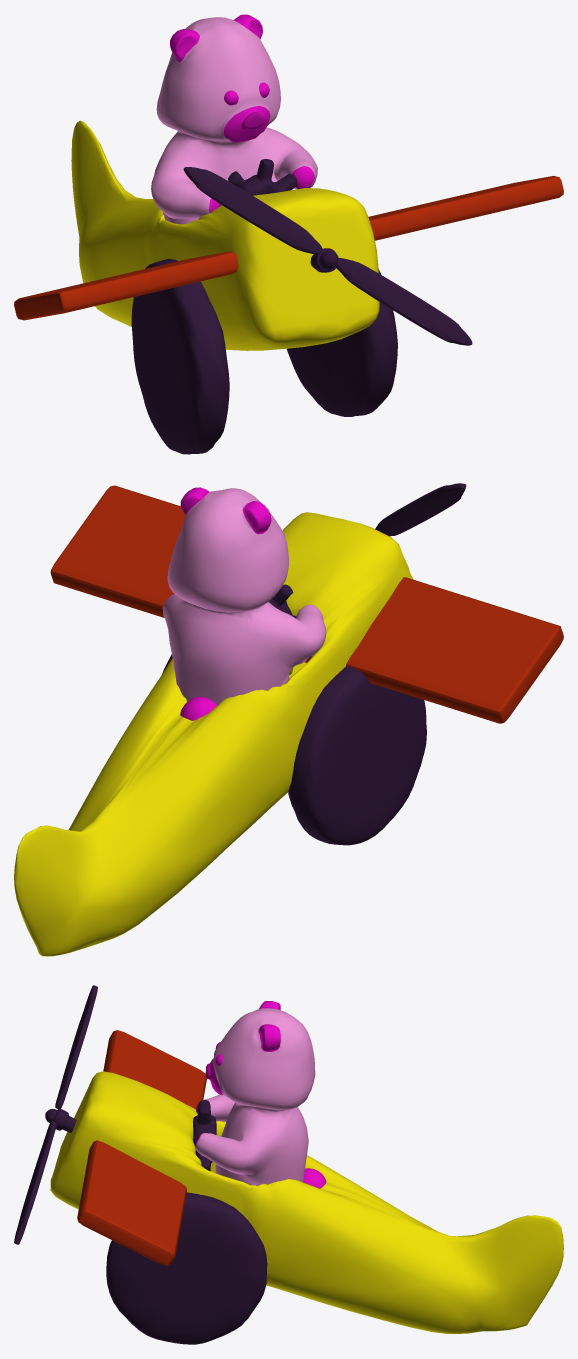
File: BearToyPlane.fbx
3 views of the same model, one above another, from view 1: azimuth 30°, elevation 25°; view 2: azimuth 150°, elevation 25°; view 3: azimuth 270°, elevation 25° (orthographic). The views are drawn at different scales.
Visible parts, largest first — view 1: polySurface50; view 2: polySurface50; view 3: polySurface50.
Part boxes in pixels (x1=…): polySurface50: x1=14, y1=14, x2=563, y2=454; polySurface50: x1=14, y1=483, x2=563, y2=956; polySurface50: x1=14, y1=985, x2=563, y2=1344.
Size of the model in its own units: 4.56 by 3.32 by 5.4.
